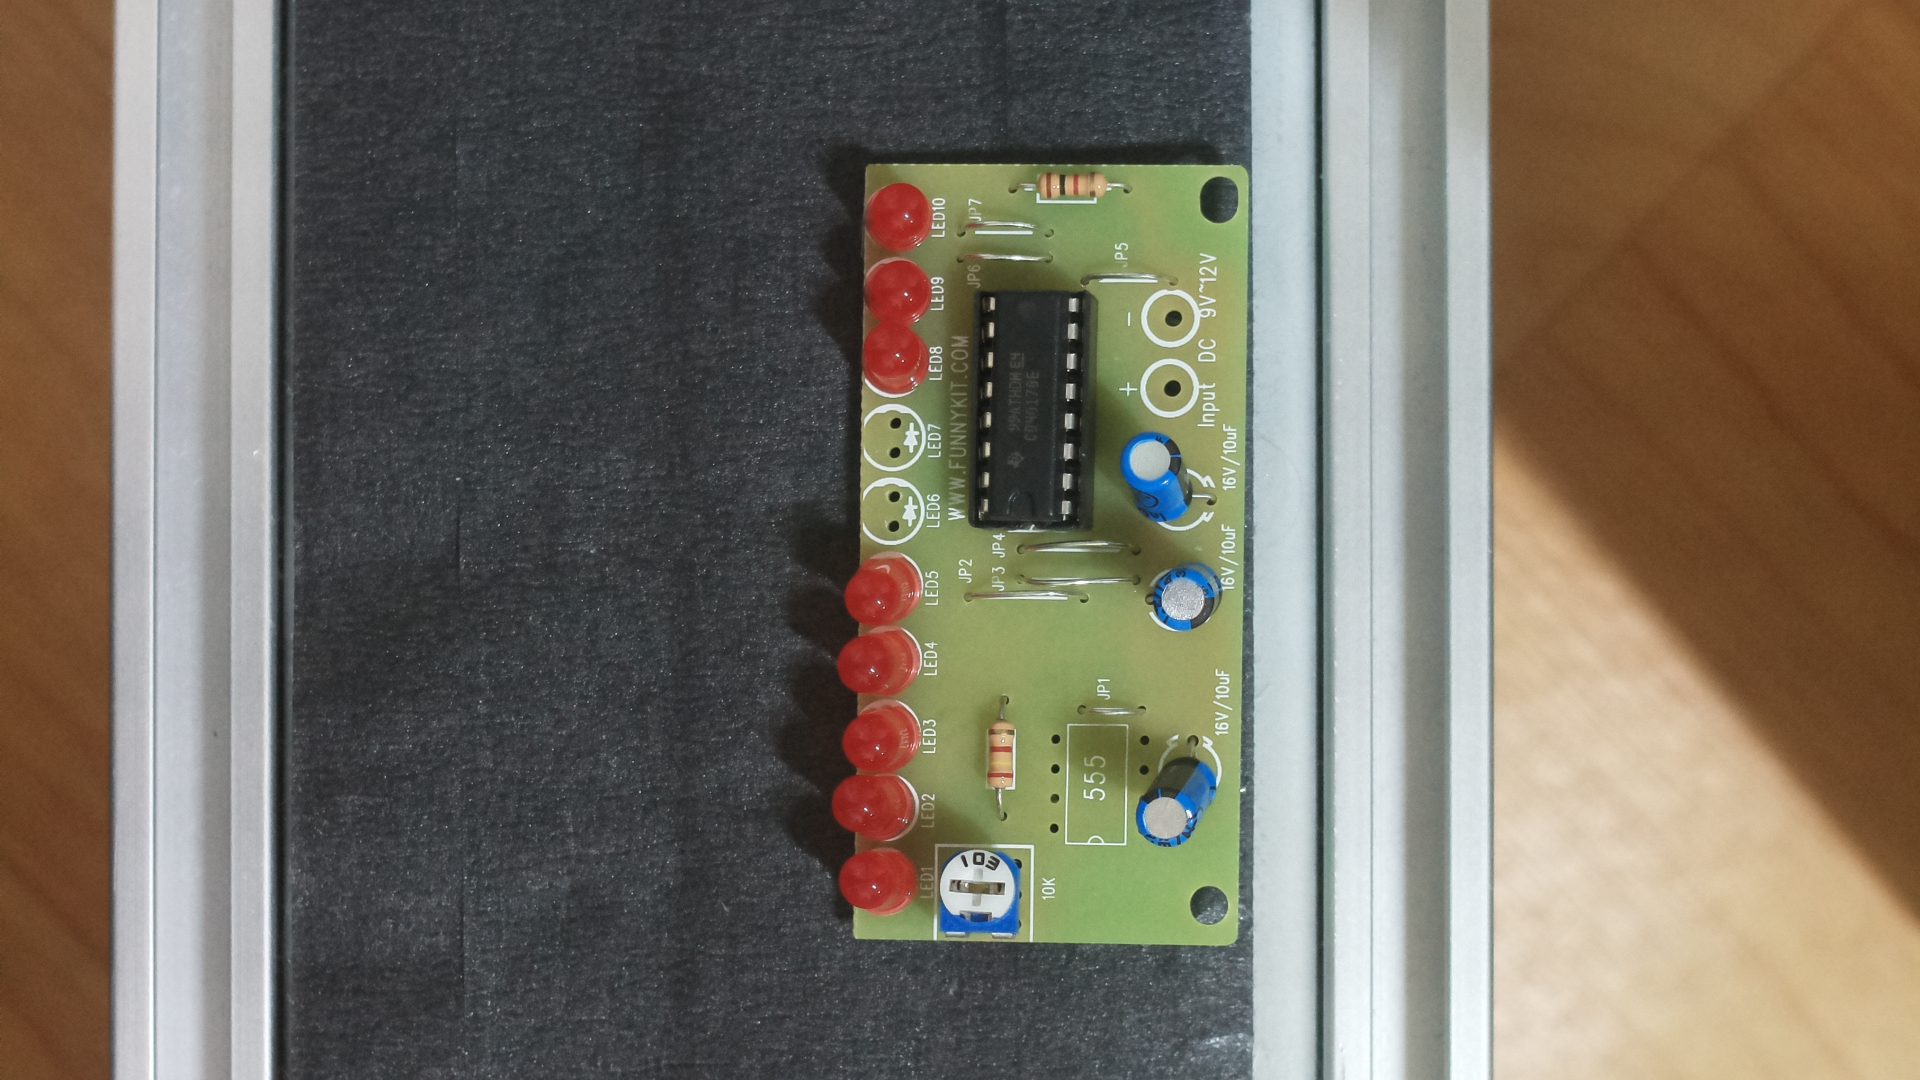B_Missing_part: (827, 135, 1266, 975)
